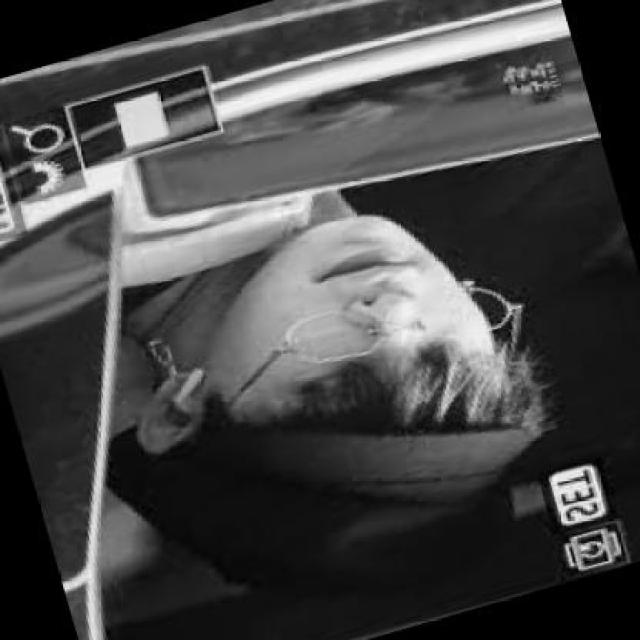earphone: (162, 353, 213, 428)
